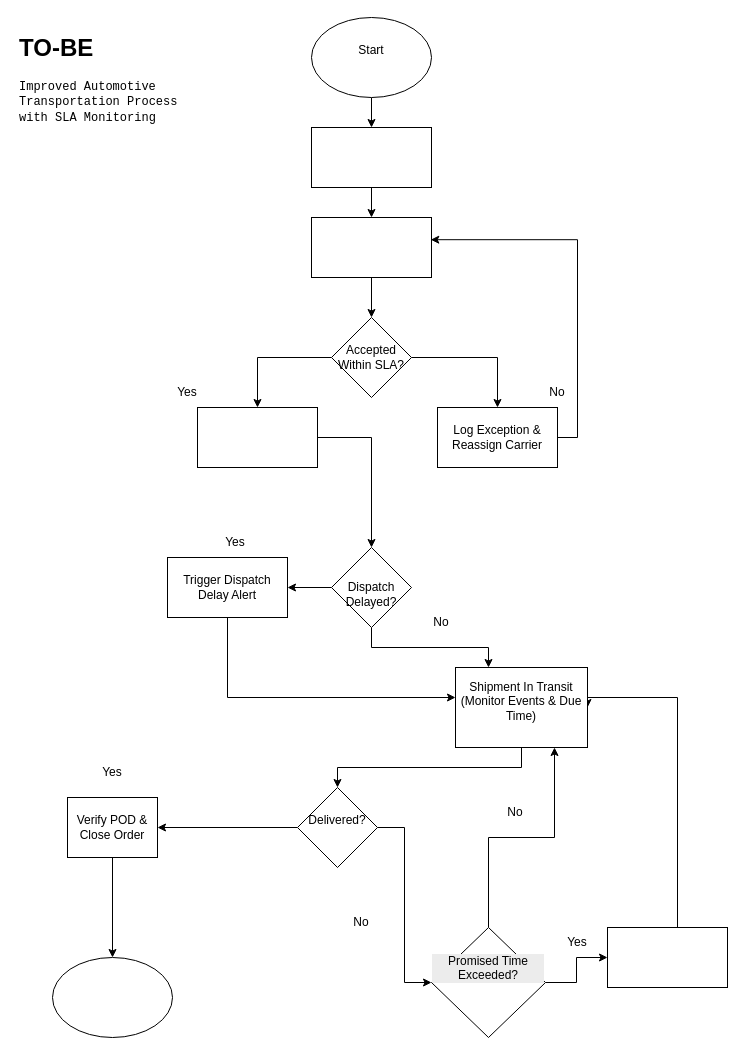
The diagram is 745 pixels wide and 1063 high, and some of its shapes have lost their labels. Each missing label, with the centre of its shape:
"Assign Carrier & Set SLA Target" belongs at [371,247].
"Dispatch Vehicle" belongs at [257,437].
"End" belongs at [112,997].
"Trigger Overdue Alert & Escalate" belongs at [667,957].
"Validate Transport Order" belongs at [371,157].
